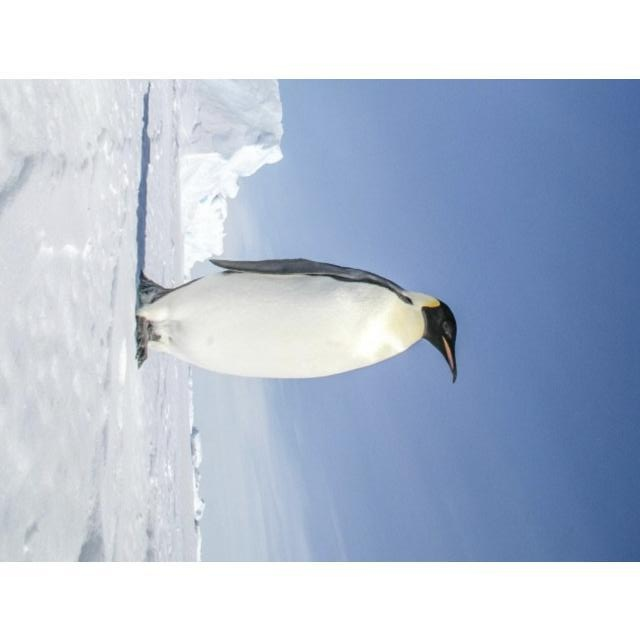penguin: (135, 255, 459, 382)
